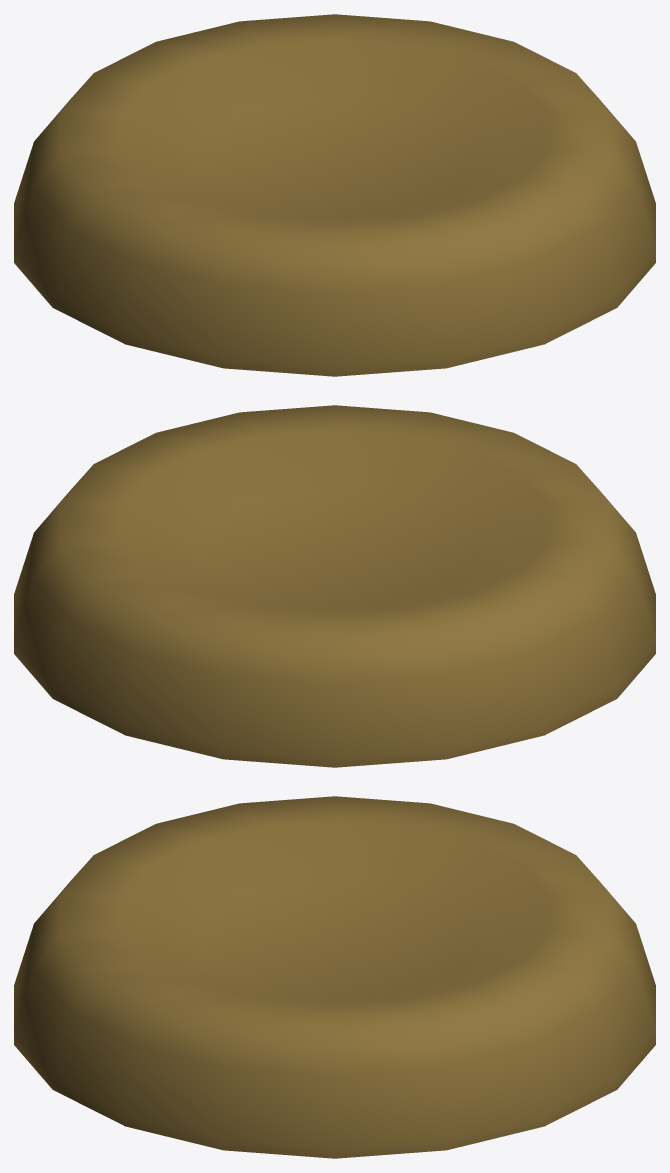
Rendered from bouton_Up_02E.FBX.
The picture shows the model from 3 angles, top to bottom: view 1: azimuth 30°, elevation 25°; view 2: azimuth 150°, elevation 25°; view 3: azimuth 270°, elevation 25°; orthographic projection.
Parts seen in each view (by area): view 1: Object008; view 2: Object008; view 3: Object008.
Boxes of the visible parts, x1=… form: Object008: x1=14, y1=14, x2=655, y2=376; Object008: x1=14, y1=405, x2=655, y2=767; Object008: x1=14, y1=796, x2=655, y2=1158.
Bounding box in the file's own units: 12.58 × 2.28 × 12.39.
